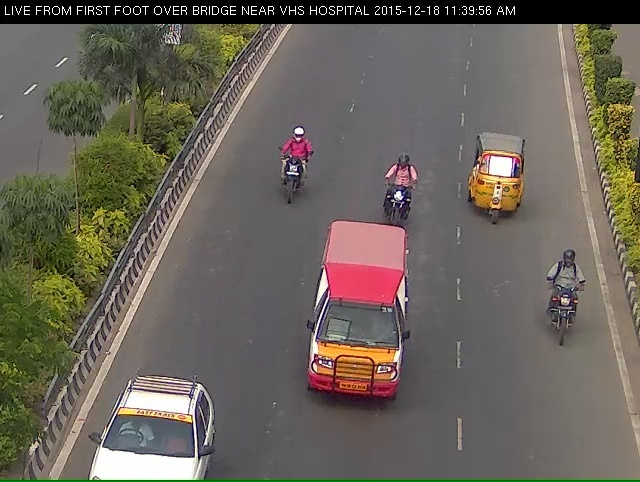Auto: (474, 134, 524, 235)
Bus: (308, 245, 403, 432)
Car: (94, 409, 206, 482)
Person: (552, 267, 584, 374), (270, 142, 303, 224), (382, 170, 413, 247)
